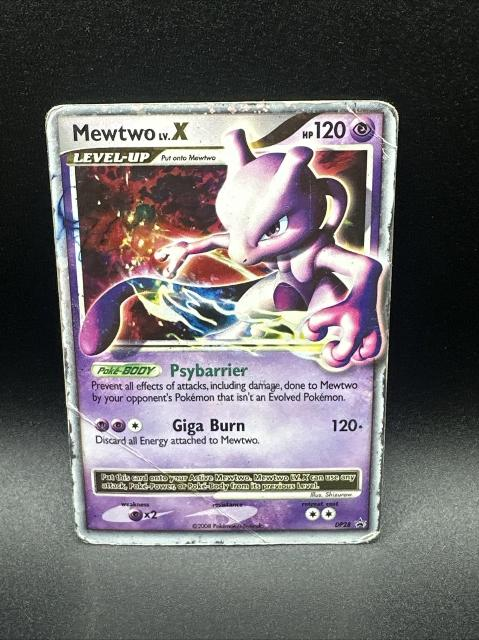Card: (40, 96, 403, 548)
Name: (66, 118, 194, 143)
